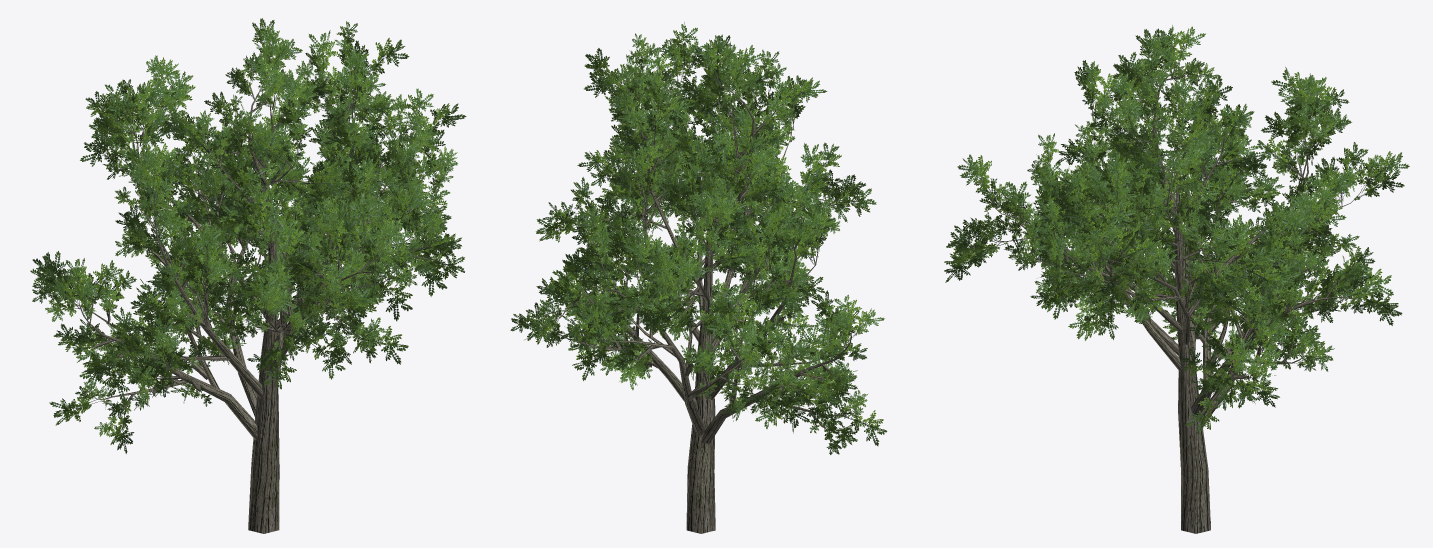
Rendered from tree_LOD1.glb.
3 renders of one model, left to right at view 1: azimuth 30°, elevation 25°; view 2: azimuth 150°, elevation 25°; view 3: azimuth 270°, elevation 25°, orthographic. The views are drawn at different scales.
Parts seen in each view (by area): view 1: Leaves_LOD1, Branches_LOD1; view 2: Leaves_LOD1, Branches_LOD1; view 3: Leaves_LOD1, Branches_LOD1.
Part boxes in pixels (x1,y1,x2,y2): Leaves_LOD1: [30, 18, 466, 453]; Branches_LOD1: [68, 59, 434, 533]; Leaves_LOD1: [510, 22, 887, 454]; Branches_LOD1: [552, 66, 851, 533]; Leaves_LOD1: [944, 25, 1409, 433]; Branches_LOD1: [984, 67, 1364, 533].
Bounding box in the file's own units: 74.58 × 97.72 × 86.05.
2 materials, 2 textured.
